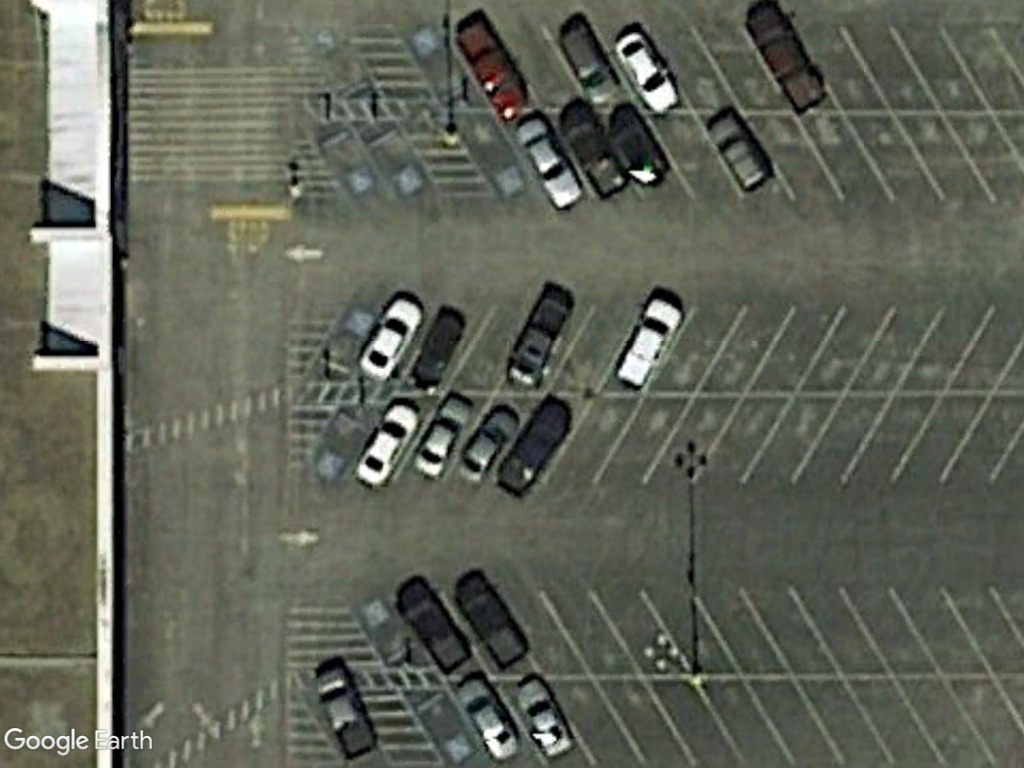car: (608, 294, 690, 395), (453, 19, 527, 123), (345, 400, 424, 492), (515, 115, 584, 217), (353, 294, 429, 385), (611, 27, 680, 123), (454, 399, 525, 489), (453, 672, 521, 763), (410, 390, 476, 482), (553, 20, 621, 107), (709, 107, 774, 194), (514, 675, 577, 763)
other: (310, 660, 382, 763), (502, 292, 575, 387)
